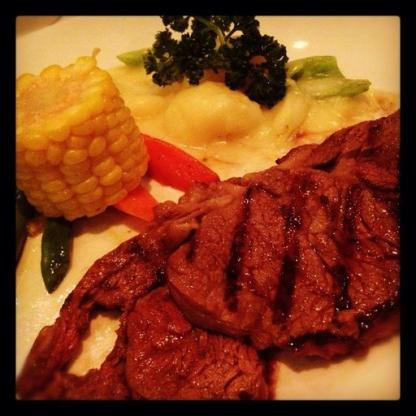corn: (12, 58, 147, 224)
